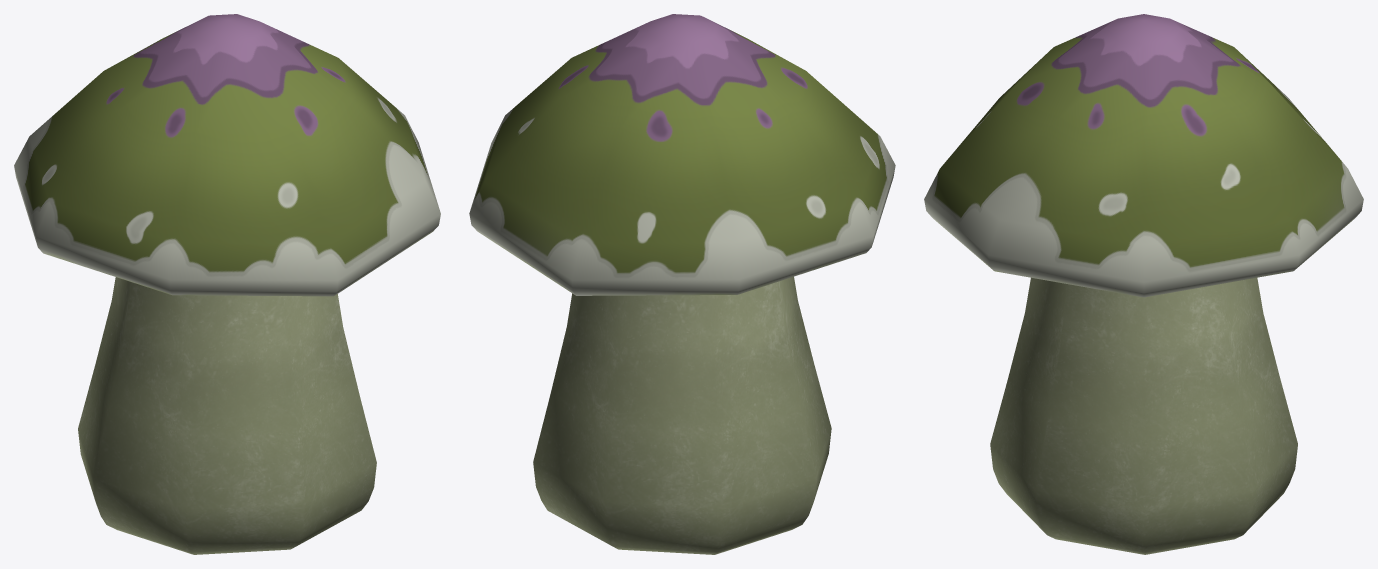
File: seta venenosa.fbx
3 views of the same model, side by side, from view 1: azimuth 30°, elevation 25°; view 2: azimuth 150°, elevation 25°; view 3: azimuth 270°, elevation 25° (orthographic).
Parts seen in each view (by area): view 1: seta grande, tronco seta grande; view 2: seta grande, tronco seta grande; view 3: seta grande, tronco seta grande.
Part boxes in pixels (bbox=[...]): seta grande: bbox=[14, 14, 440, 296]; tronco seta grande: bbox=[78, 277, 376, 554]; seta grande: bbox=[469, 14, 895, 295]; tronco seta grande: bbox=[533, 276, 831, 554]; seta grande: bbox=[924, 14, 1363, 297]; tronco seta grande: bbox=[990, 277, 1297, 554].
Bounding box in the file's own units: 447 × 540 × 447.
